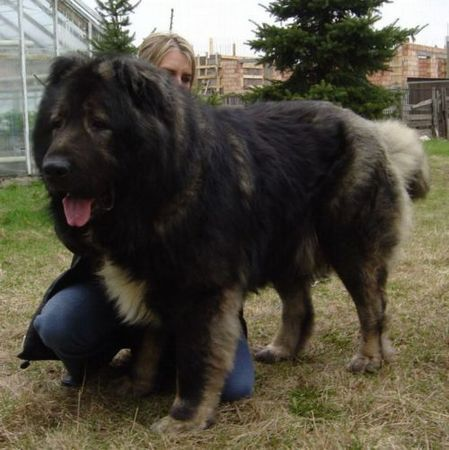cau_ovcharka: (28, 50, 432, 440)
human_face: (157, 46, 194, 92)
person: (14, 30, 253, 401)
